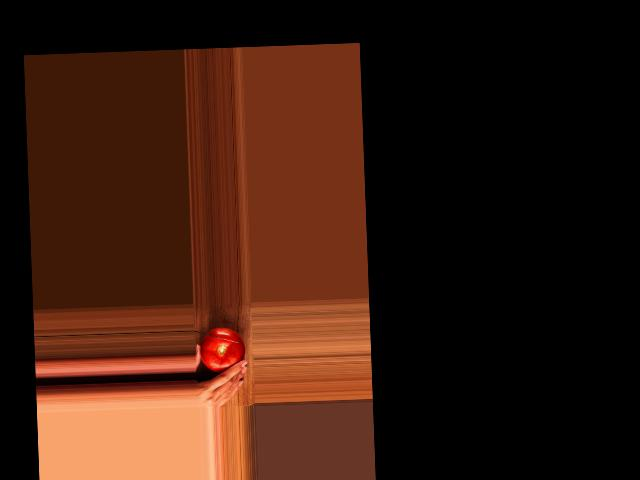tomato: (199, 327, 245, 373)
